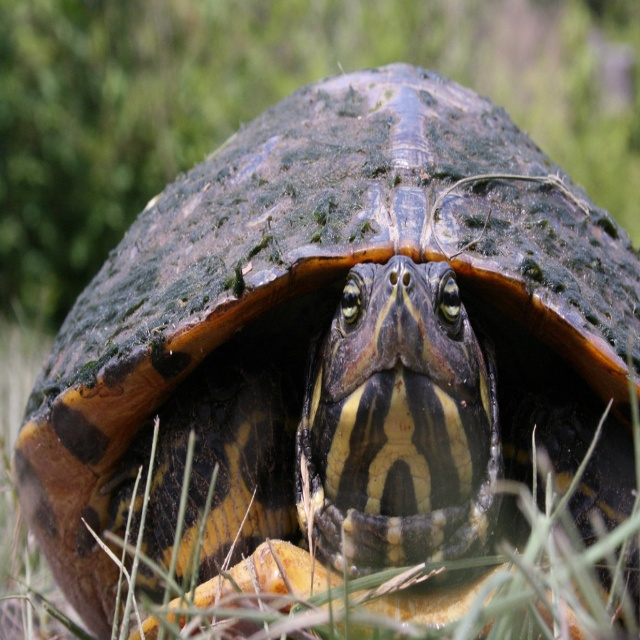Tortoise: (11, 63, 640, 640)
